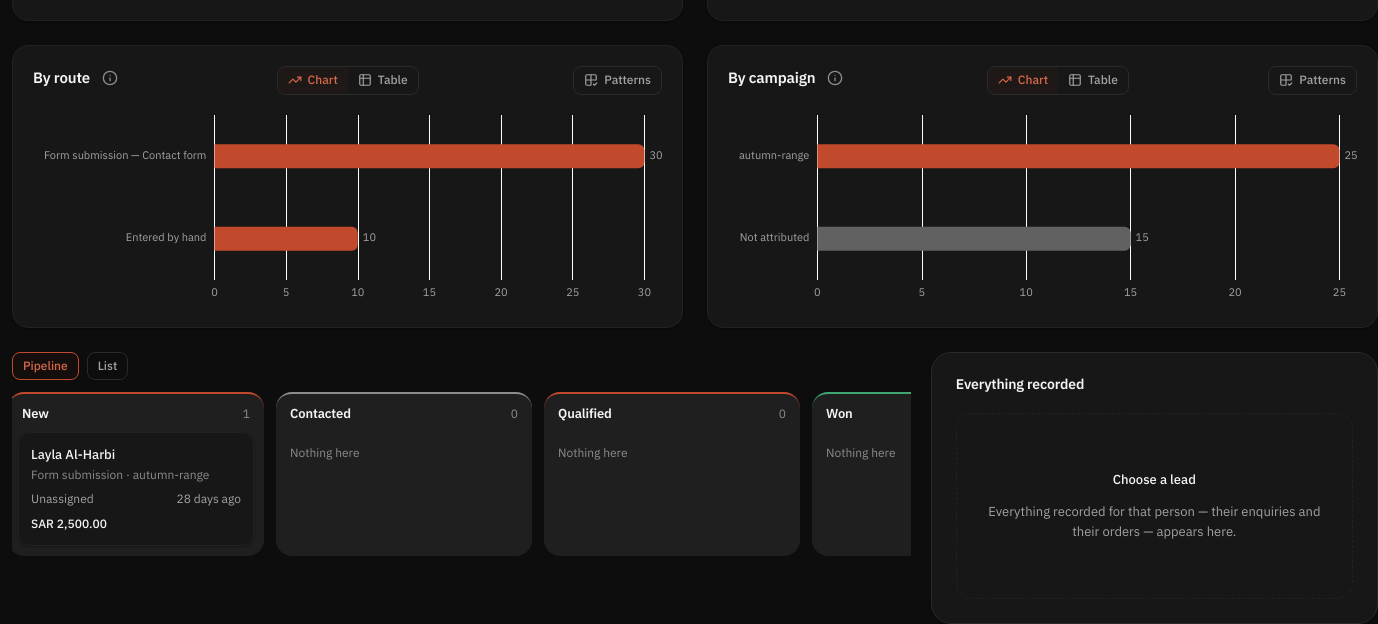
Test: the Lead Center › shows a lead nobody has contacted as waiting, not as zero hours
(page scrolled)
Click the button "List".
click(108, 366)  # box left=87, top=352, right=128, bottom=380
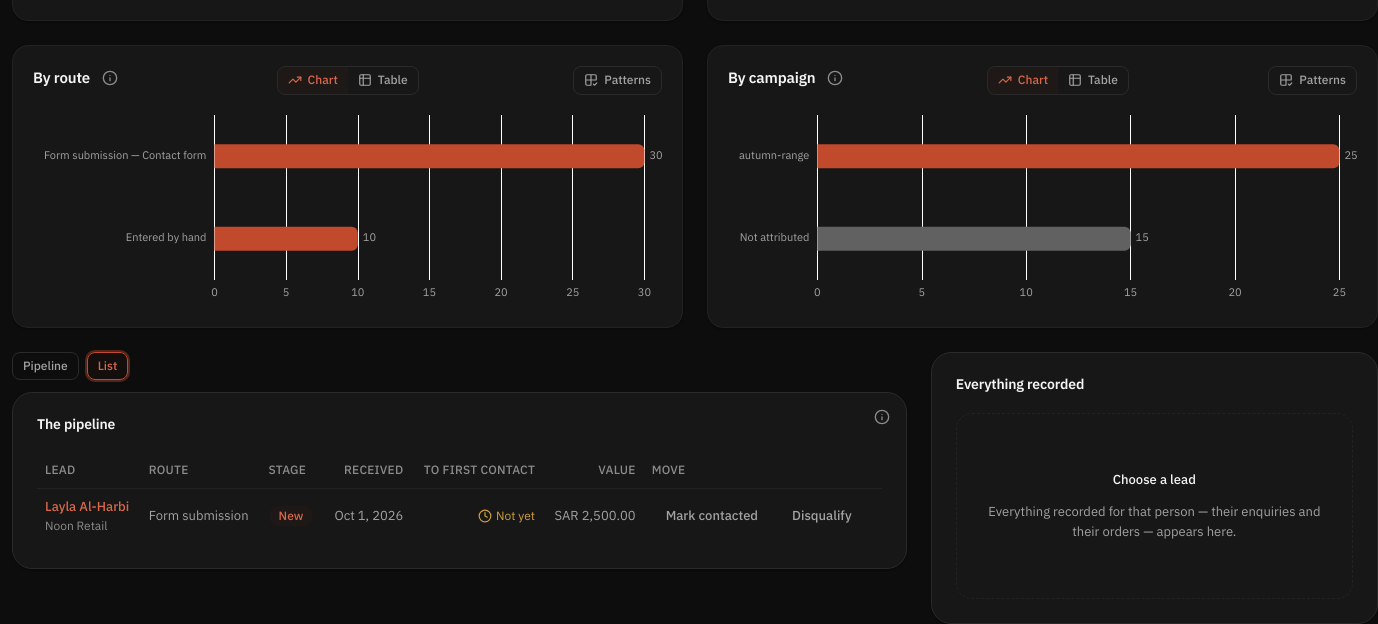
Expected: the text "Not yet" is shown, left=478, top=507, right=535, bottom=525
